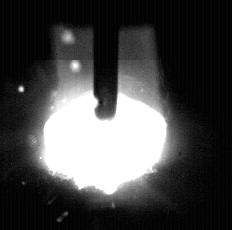arame: (94, 0, 118, 121)
poca: (44, 0, 167, 230)
